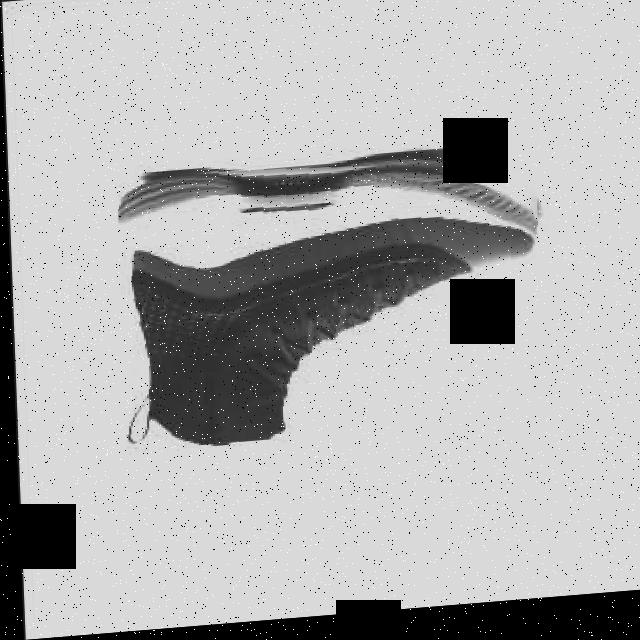shoe: (115, 150, 543, 453)
